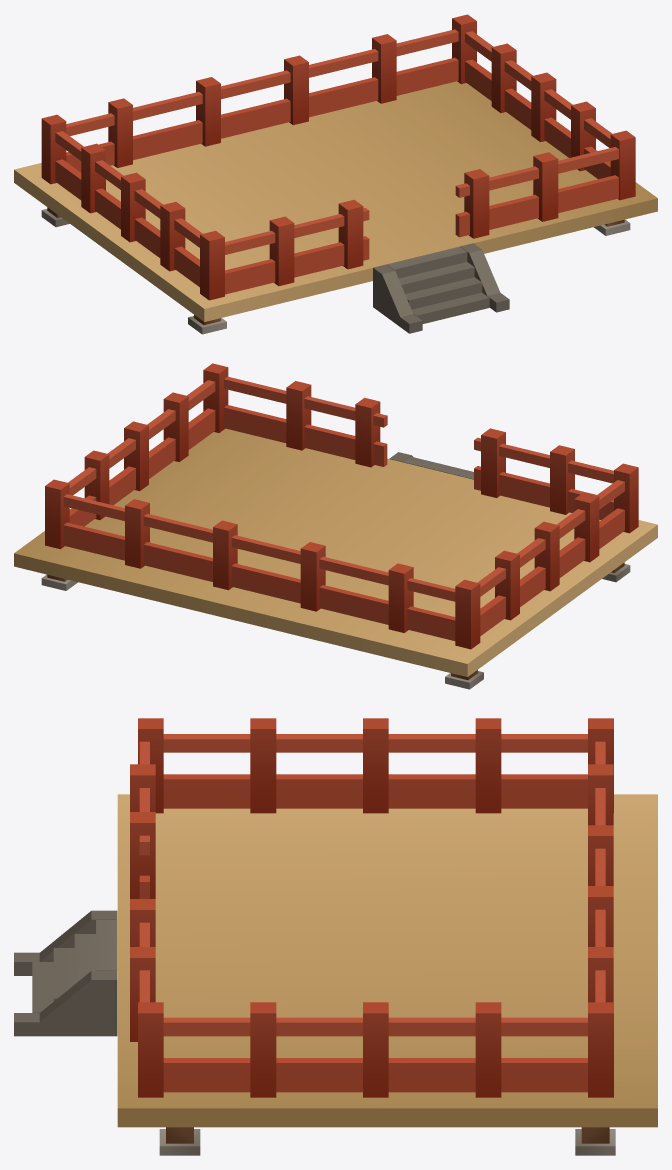
File: Shrine_PlatformFull.fbx
3 views of the same model, one above another, from view 1: azimuth 30°, elevation 25°; view 2: azimuth 150°, elevation 25°; view 3: azimuth 270°, elevation 25° (orthographic). The views are drawn at different scales.
Parts seen in each view (by area): view 1: Shrine_Base, Shrine_Fence.004, Shrine_Stairs_Mid.004, Shrine_Stairs_Side.004, Shrine_BaseSupport.004; view 2: Shrine_Base, Shrine_Fence.004, Shrine_BaseSupport.004, Shrine_Stairs_Mid.004; view 3: Shrine_Base, Shrine_Fence.004, Shrine_Stairs_Side.004, Shrine_Stairs_Mid.004, Shrine_BaseSupport.004.
Boxes of the visible parts, <box> form: Shrine_Base: <box>14,81,657,321</box>; Shrine_Fence.004: <box>41,14,635,300</box>; Shrine_Stairs_Mid.004: <box>386,246,489,323</box>; Shrine_Stairs_Side.004: <box>373,243,509,333</box>; Shrine_BaseSupport.004: <box>41,207,630,334</box>; Shrine_Base: <box>14,428,657,676</box>; Shrine_Fence.004: <box>45,363,638,649</box>; Shrine_BaseSupport.004: <box>41,562,630,689</box>; Shrine_Stairs_Mid.004: <box>403,456,473,479</box>; Shrine_Base: <box>117,794,657,1127</box>; Shrine_Fence.004: <box>130,718,613,1097</box>; Shrine_Stairs_Side.004: <box>14,910,117,1036</box>; Shrine_Stairs_Mid.004: <box>32,920,116,1012</box>; Shrine_BaseSupport.004: <box>159,1127,615,1155</box>.
Size of the model in its own units: 7.2 by 1.5 by 6.24.
1 material, 1 textured.
